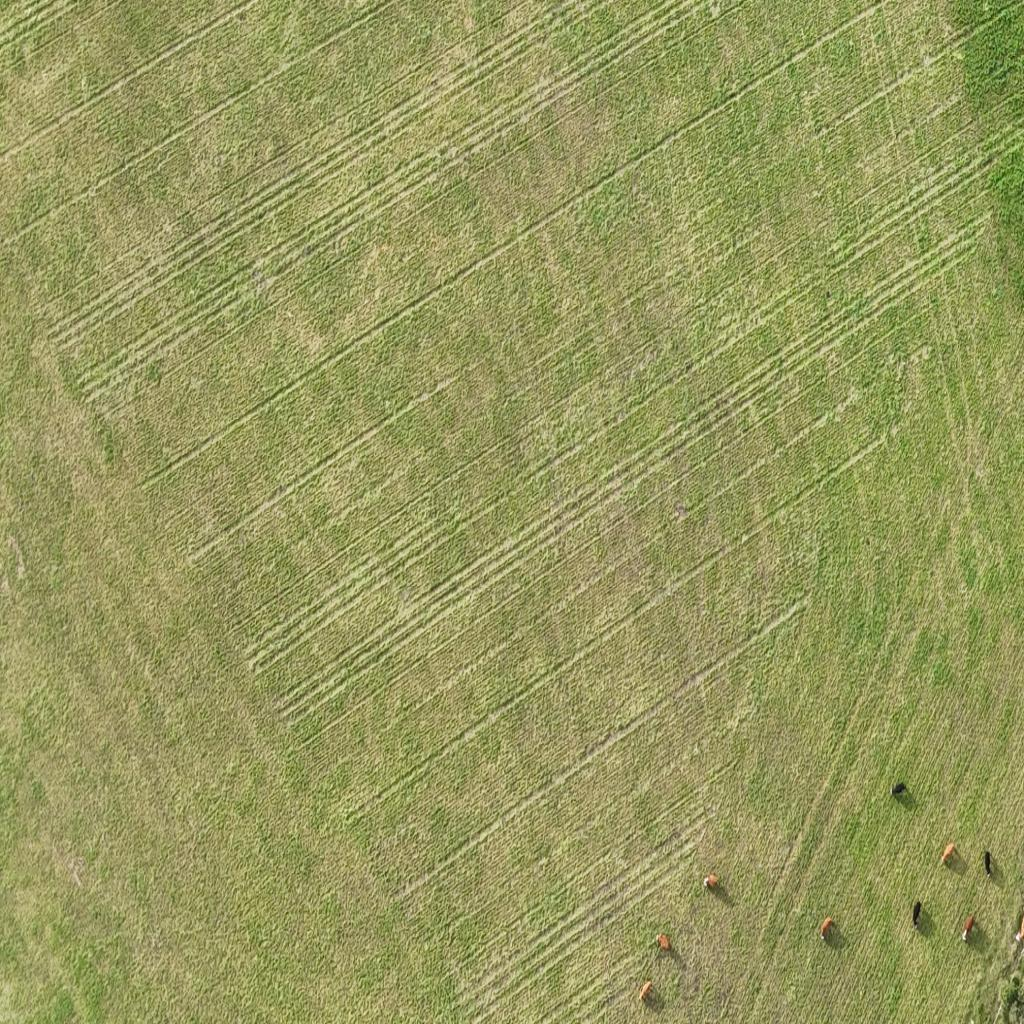cow: (819, 914, 839, 942), (1009, 912, 1023, 946), (940, 842, 958, 868), (961, 913, 976, 941), (912, 898, 922, 930), (640, 980, 653, 1002), (890, 781, 906, 797), (984, 850, 993, 877), (703, 874, 717, 890), (658, 933, 670, 951)
